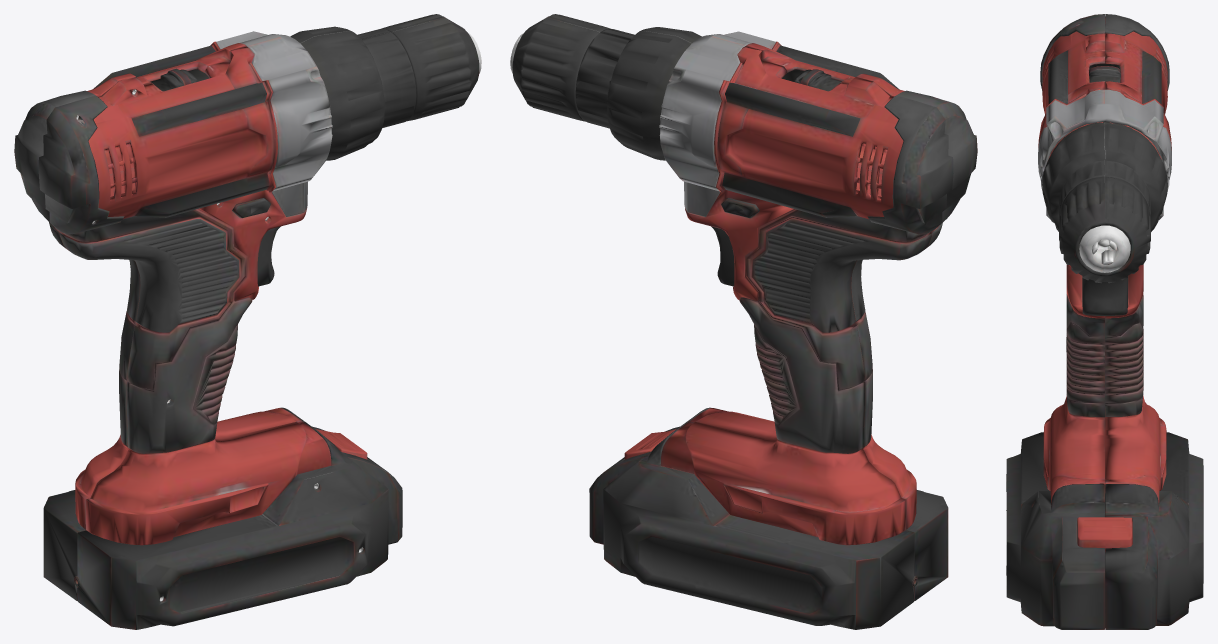
The model's file is nvidia-power-tool-drill.glb.
3 renders of one model, left to right at view 1: azimuth 30°, elevation 25°; view 2: azimuth 150°, elevation 25°; view 3: azimuth 270°, elevation 25°, orthographic. The views are drawn at different scales.
Parts seen in each view (by area): view 1: button_01_mesh_00; view 2: button_01_mesh_00; view 3: button_01_mesh_00.
Boxes of the visible parts, left/top/right/bottom form: button_01_mesh_00: left=14, top=14, right=481, bottom=629; button_01_mesh_00: left=510, top=14, right=977, bottom=629; button_01_mesh_00: left=1006, top=14, right=1203, bottom=629.
Bounding box in the file's own units: 0.2162 × 0.2439 × 0.0893.
Materials: 1 (1 with a texture image).
